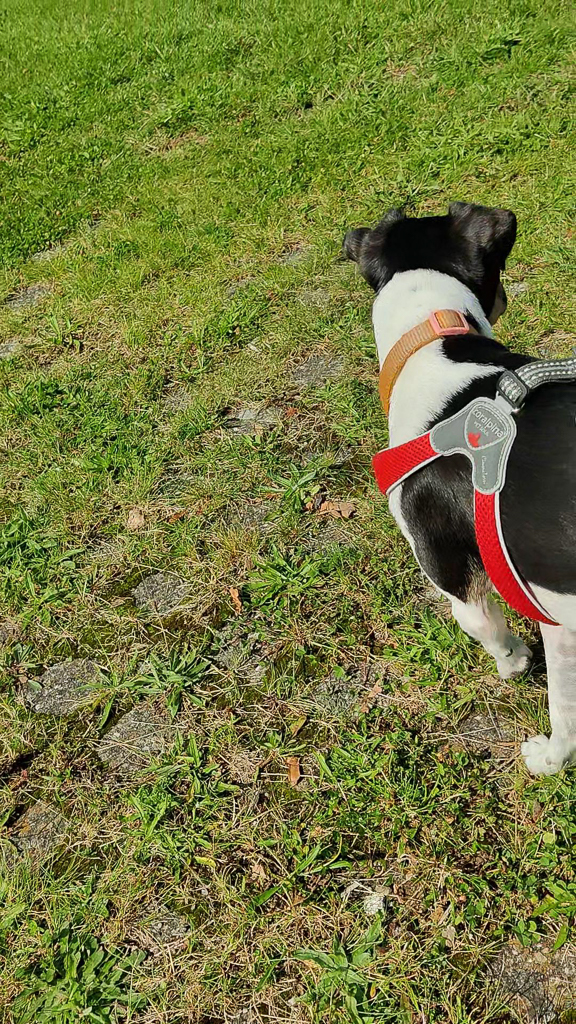Dog: (300, 170, 576, 807)
